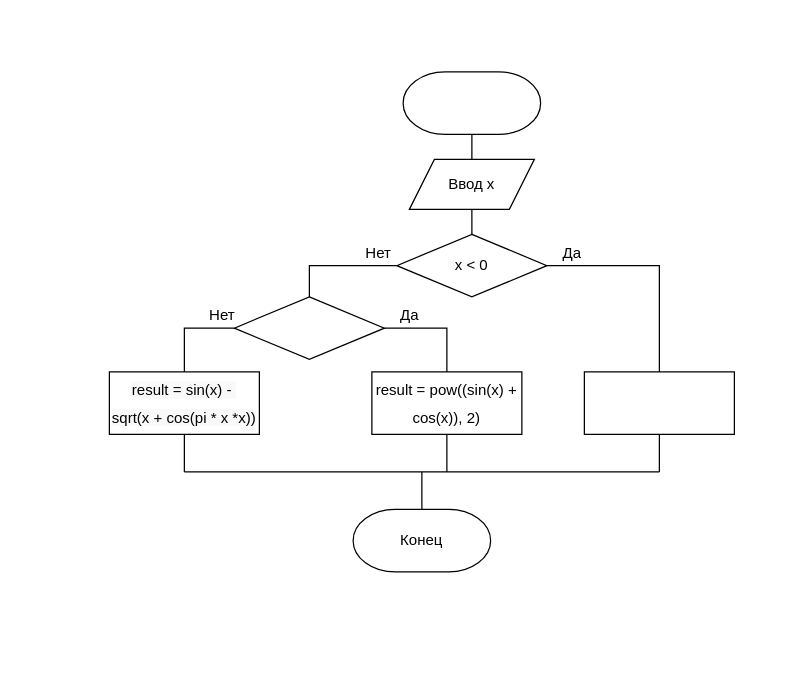
Some shapes in this 793 by 680 pixel diagram are drawn without their labels. The centre of each missing label's shape, as x and y in pixels:
0 <= x < 1.5: the point at 308,327
result = 0: the point at 658,402
Начало: the point at 471,102
